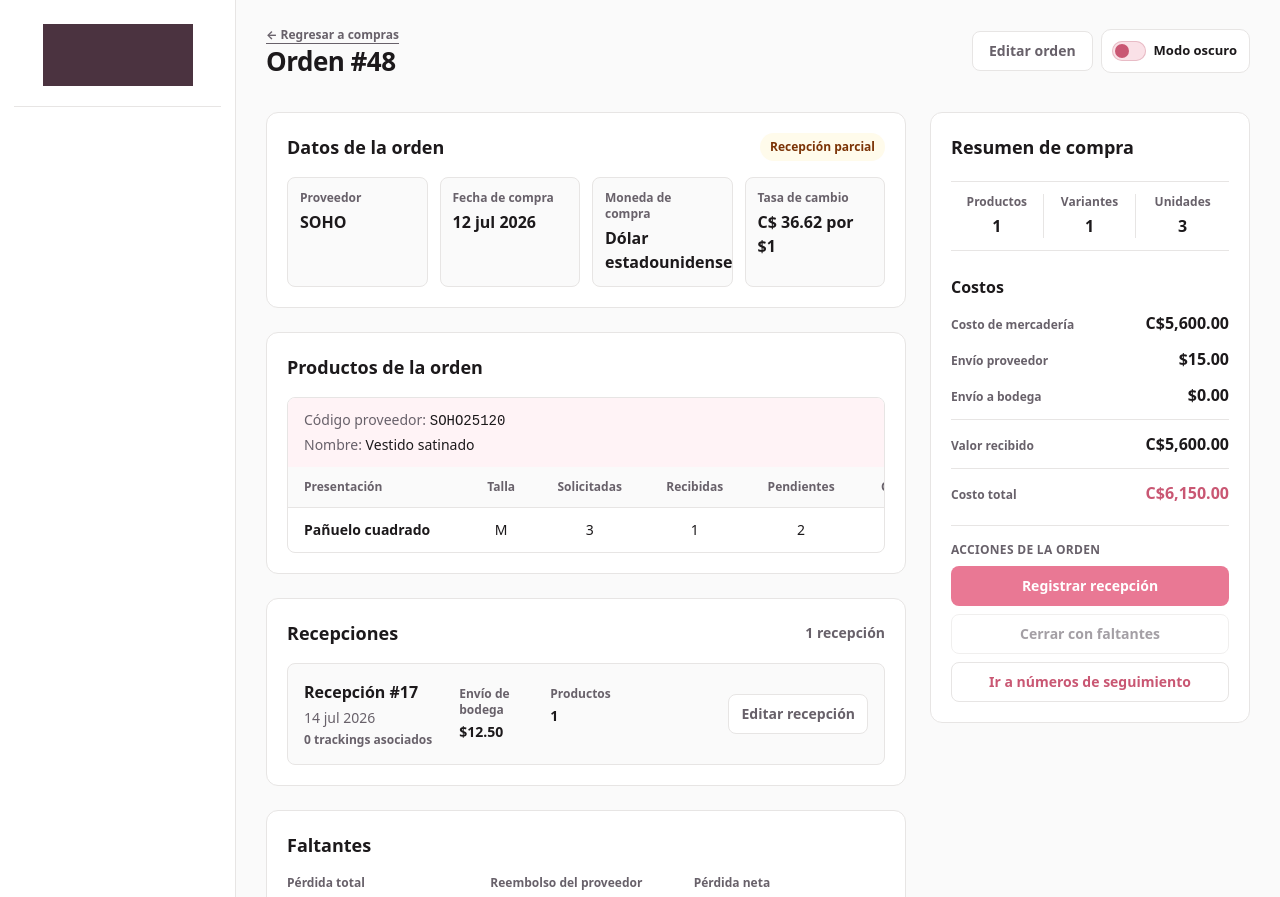
Test: PurchaseOrderDetailPage › muestra el error de actualización dentro del diálogo de confirmación
Click the button with aria-label "Editar recepción #17" at [798, 714], box [728,694,868,734]
(page scrolled)
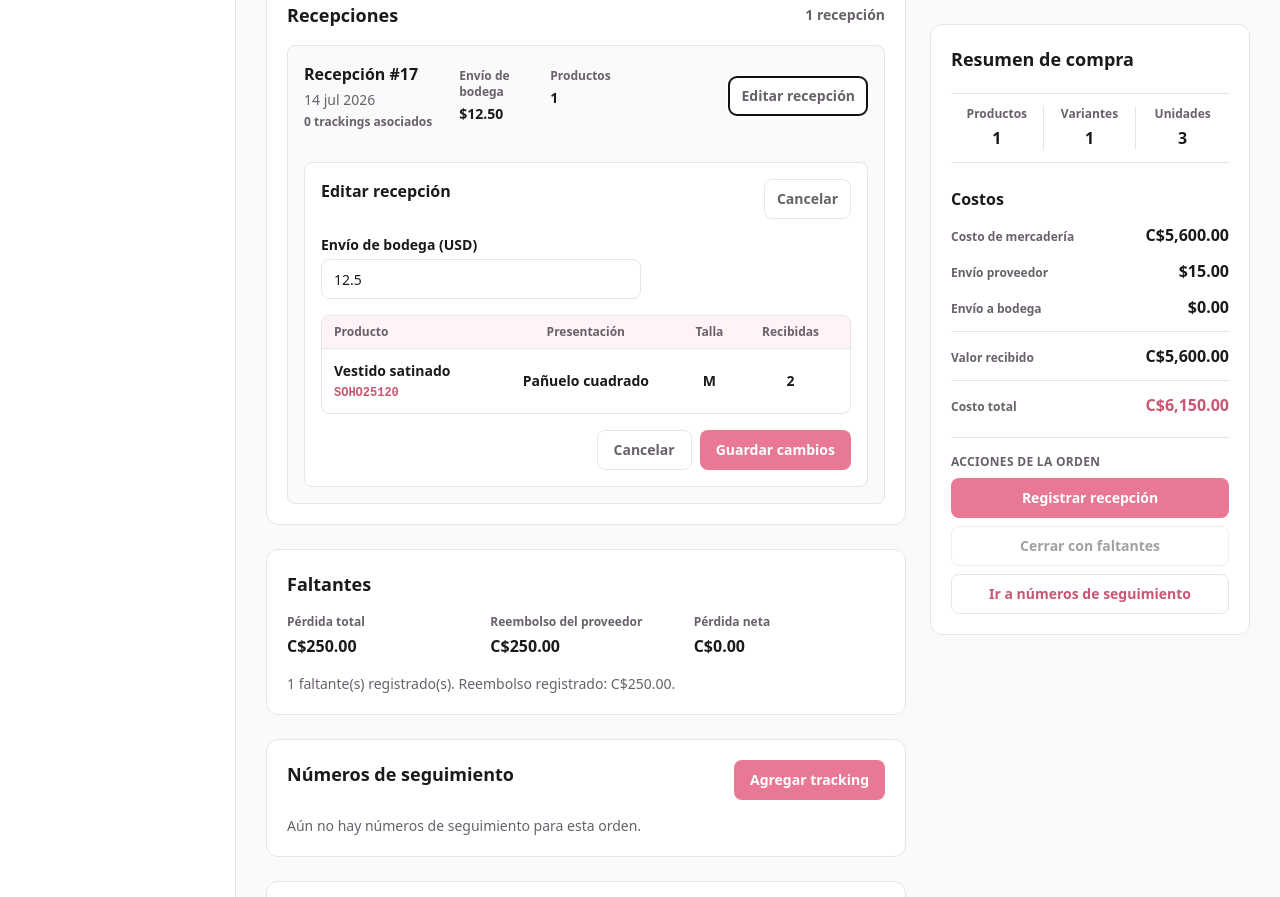
Click the button "Guardar cambios" at [775, 450], box [700,430,851,470]
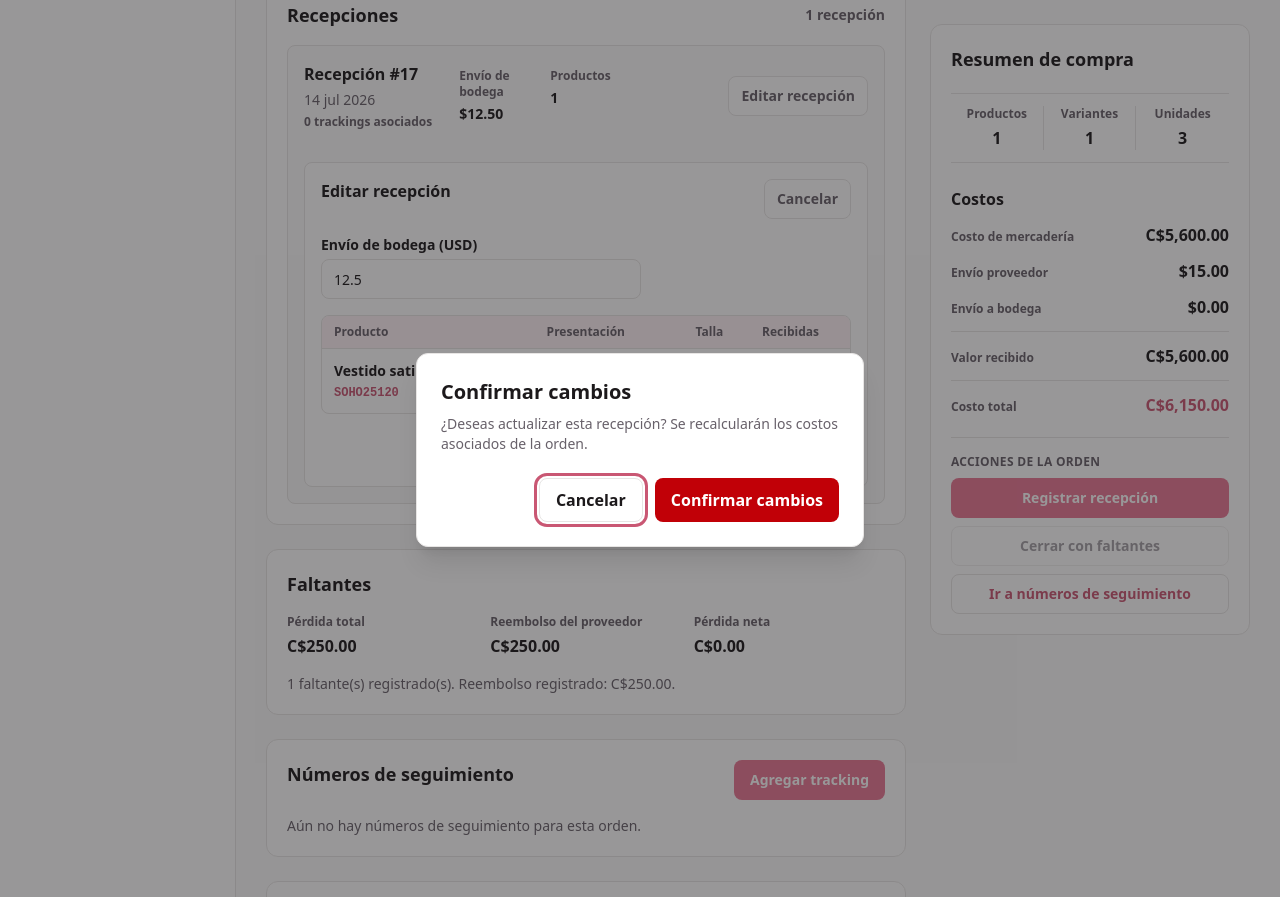
Click the button "Confirmar cambios" at [747, 500], box [655,478,839,522]
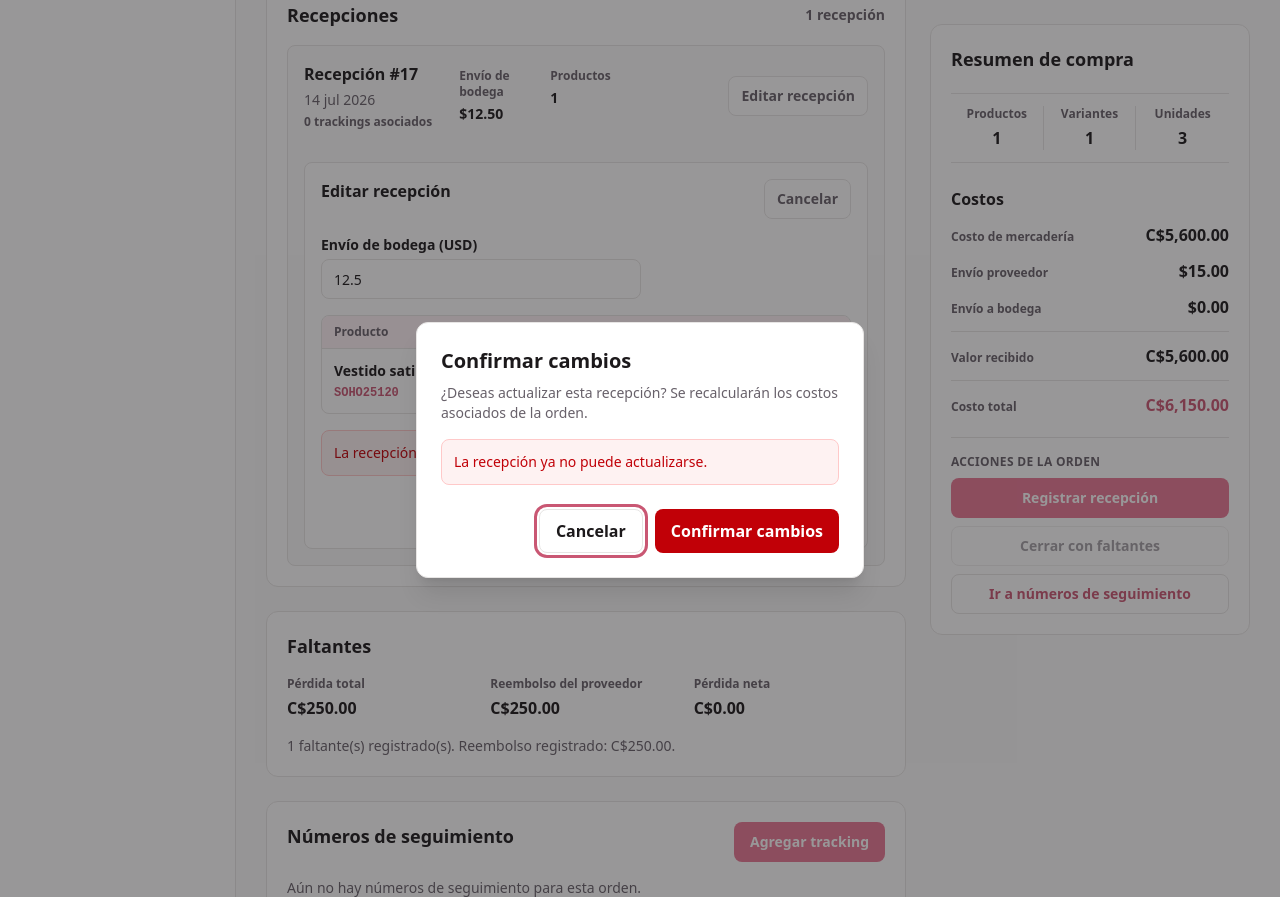
Now the message reads "La recepción ya no puede actualizarse.", box [454,452,707,471]
